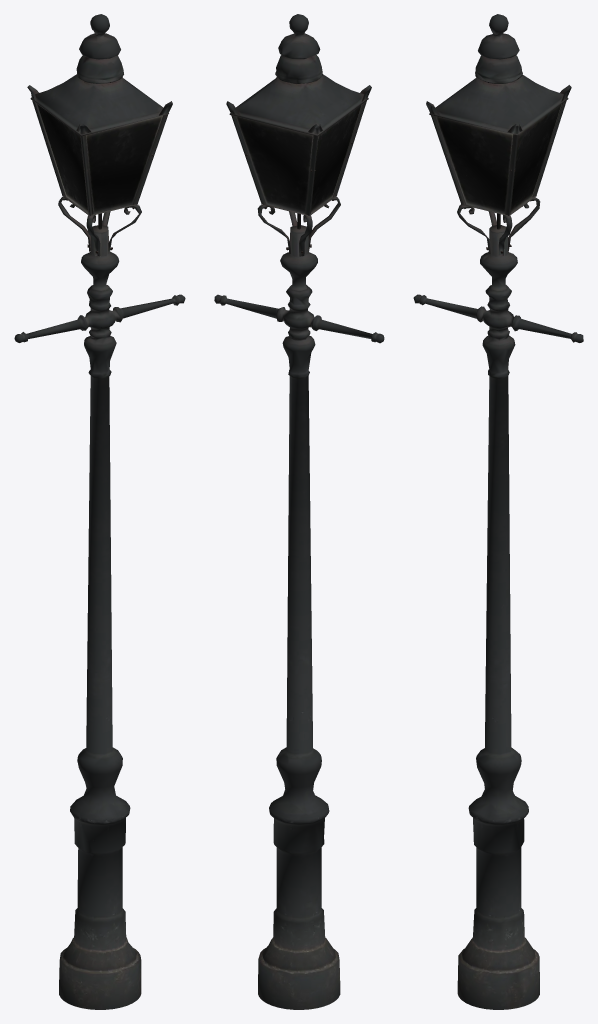
File: lamp.glb
3 renders of one model, left to right at view 1: azimuth 30°, elevation 25°; view 2: azimuth 150°, elevation 25°; view 3: azimuth 330°, elevation 25°, orthographic.
Visible parts, largest first — view 1: street_lamp_01; view 2: street_lamp_01; view 3: street_lamp_01.
Part boxes in pixels (left/top/right/bottom): street_lamp_01: left=14, top=14, right=185, bottom=1009; street_lamp_01: left=214, top=14, right=384, bottom=1009; street_lamp_01: left=413, top=14, right=583, bottom=1009.
Bounding box in the file's own units: 0.7035 × 3.87 × 0.3841.
2 materials, 2 textured.
